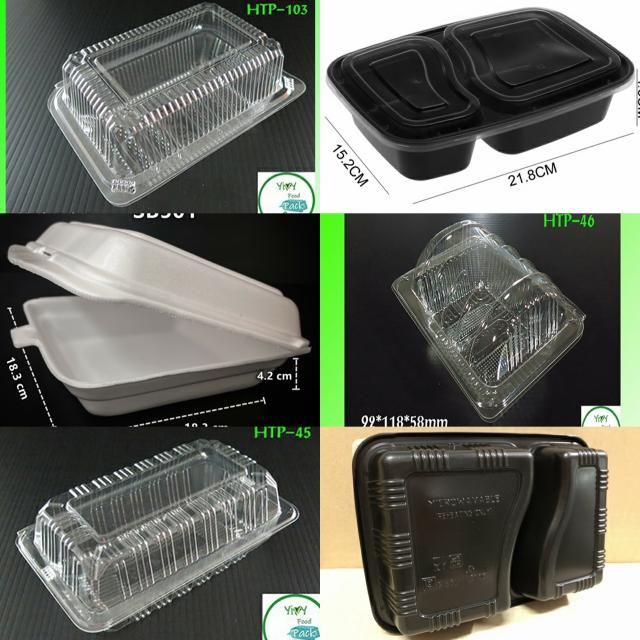Single-Use-Plastic: (8, 221, 310, 416), (16, 439, 299, 632), (327, 8, 634, 180), (48, 2, 305, 206), (353, 434, 608, 634), (392, 220, 585, 422)
